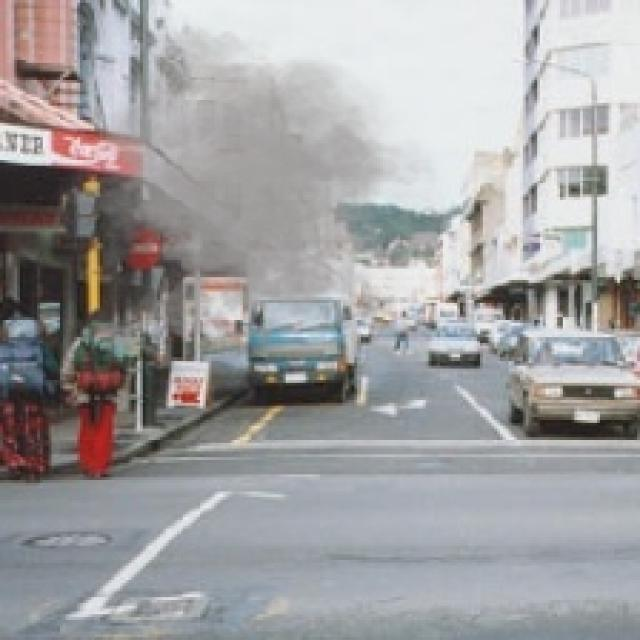Smoke: (34, 20, 460, 366)
